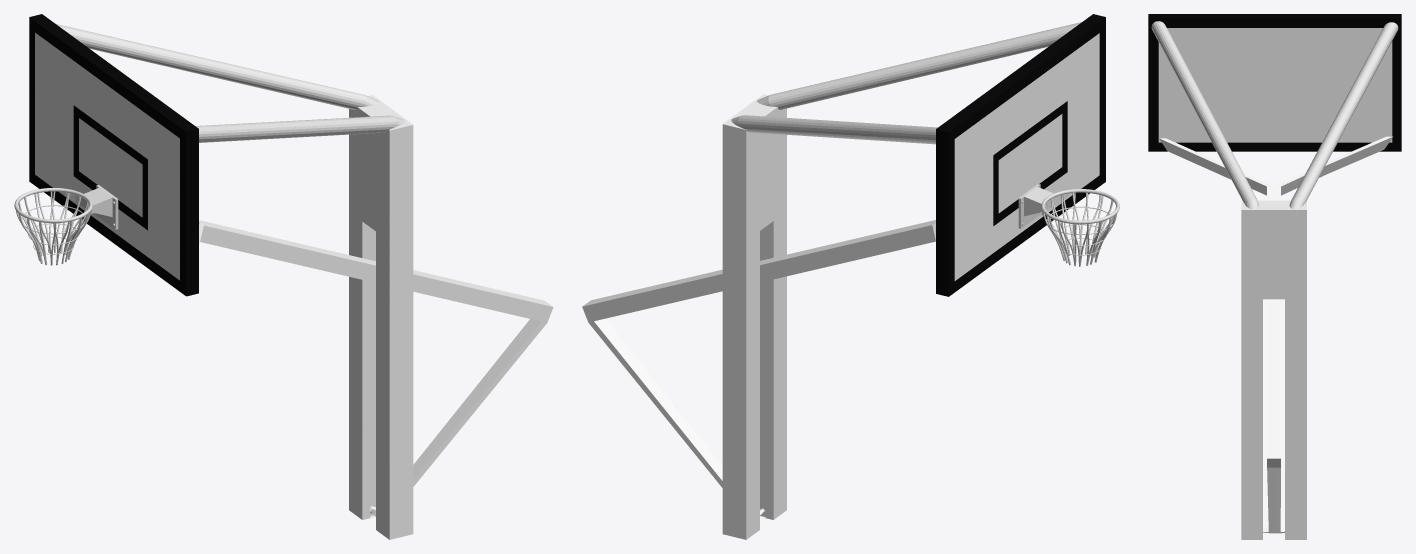
Rendered from aroo .fbx.
3 views of the same model, side by side, from view 1: azimuth 30°, elevation 25°; view 2: azimuth 150°, elevation 25°; view 3: azimuth 270°, elevation 25° (orthographic). The views are drawn at different scales.
Visible parts, largest first — view 1: Cube.006, BezierCurve.009; view 2: Cube.006, BezierCurve.009; view 3: Cube.006.
Part boxes in pixels (x1,y1,x2,y2): Cube.006: (14,14,553,539); BezierCurve.009: (16,191,90,265); Cube.006: (582,14,1119,539); BezierCurve.009: (1043,191,1117,266); Cube.006: (1148,14,1401,539).
Bounding box in the file's own units: 442 × 411 × 228.
Materials: 4 (3 with a texture image).
